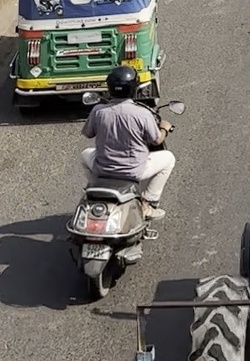BikeWithRider: (61, 64, 188, 299)
Helmet: (107, 65, 142, 101)
